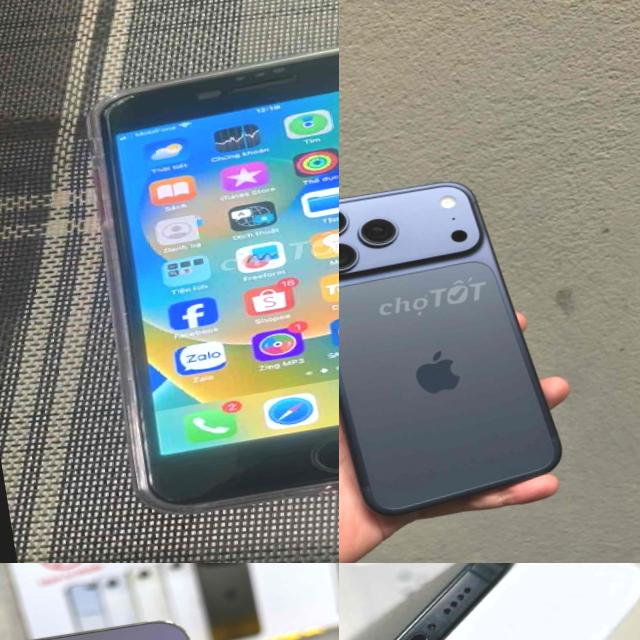physical_damage: (75, 84, 144, 123)
